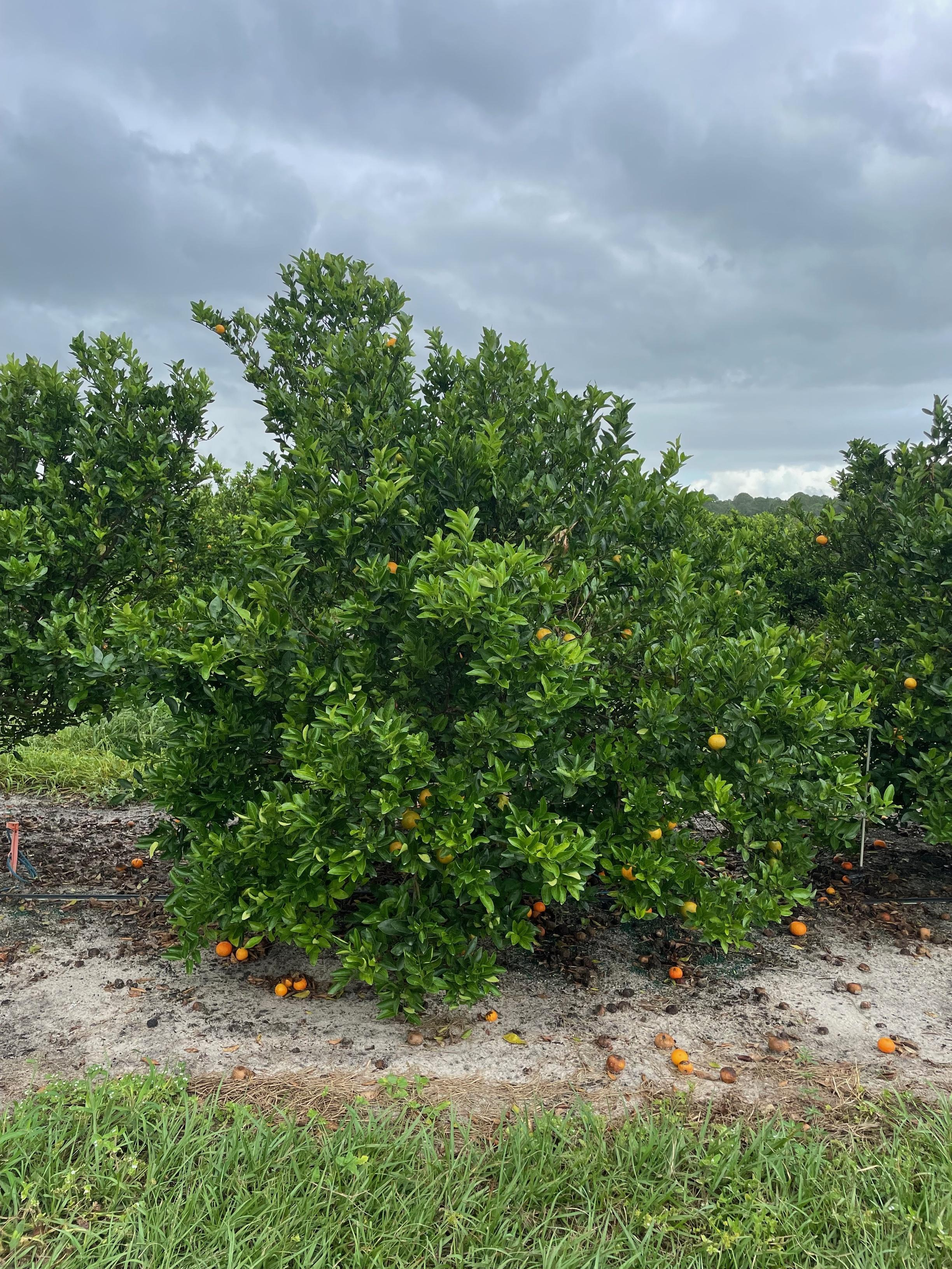fruit_on_ground: (398, 808, 424, 833), (678, 900, 700, 921), (417, 787, 438, 809), (706, 731, 727, 752), (434, 845, 456, 865), (620, 862, 640, 882), (534, 625, 554, 645), (386, 838, 406, 856), (765, 837, 783, 856), (645, 825, 663, 843), (765, 856, 783, 872), (902, 676, 919, 691), (619, 626, 635, 641), (663, 817, 679, 832), (213, 322, 227, 336), (814, 533, 829, 546), (611, 553, 624, 566)
fruit_on_tree: (605, 1052, 627, 1074), (653, 1031, 676, 1051), (214, 940, 235, 959), (788, 919, 808, 937), (670, 1048, 690, 1066), (876, 1036, 896, 1054), (233, 944, 251, 963), (406, 1029, 425, 1047), (291, 975, 309, 992), (719, 1066, 737, 1083), (677, 1059, 693, 1075), (668, 965, 684, 981), (273, 982, 289, 998), (278, 974, 295, 989), (845, 981, 863, 995), (915, 926, 931, 941), (665, 1002, 681, 1016), (532, 900, 547, 914), (129, 855, 144, 869), (484, 1009, 499, 1022), (877, 911, 892, 923), (872, 837, 887, 849), (534, 925, 547, 938), (858, 962, 871, 974), (114, 861, 128, 872), (831, 853, 844, 864), (124, 818, 136, 829), (842, 860, 854, 871), (940, 911, 951, 921), (825, 885, 836, 895)
